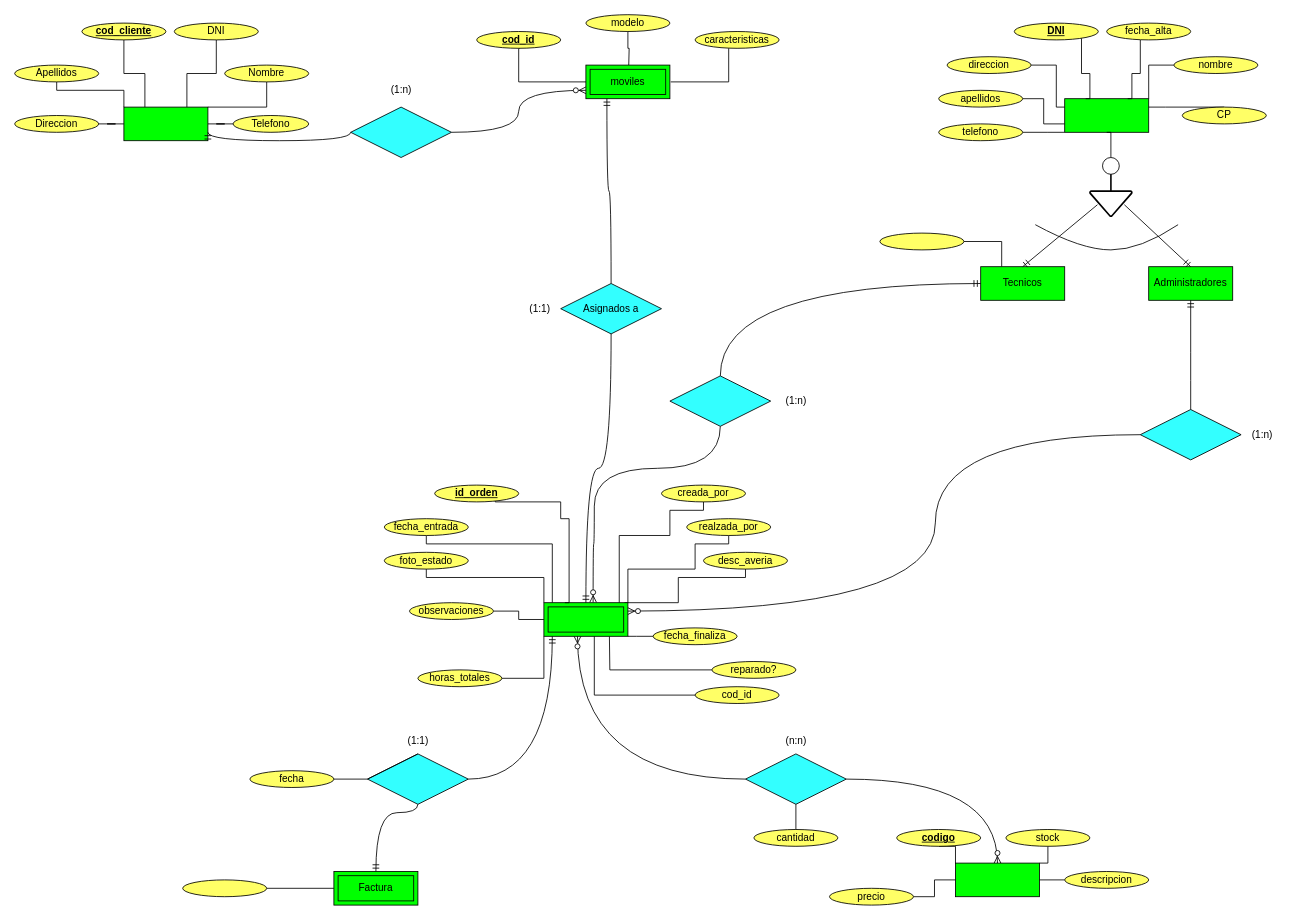
The diagram is 1298 pixels wide and 920 high, and some of its shapes have lost their labels. The shapes that lost their labels are listed below. From the top down, each one's centre as x and y in pixels, then its label:
At point 165,123: "Clientes".
At point 401,132: "Traen".
At point 1106,115: "Empleados".
At point 921,241: "categoria".
At point 720,400: "Realizan".
At point 1190,434: "Crean".
At point 585,619: "Orden de reparacion".
At point 417,778: "Generan".
At point 795,778: "Requieren".
At point 224,888: "num_factura".
At point 997,879: "recambios".
